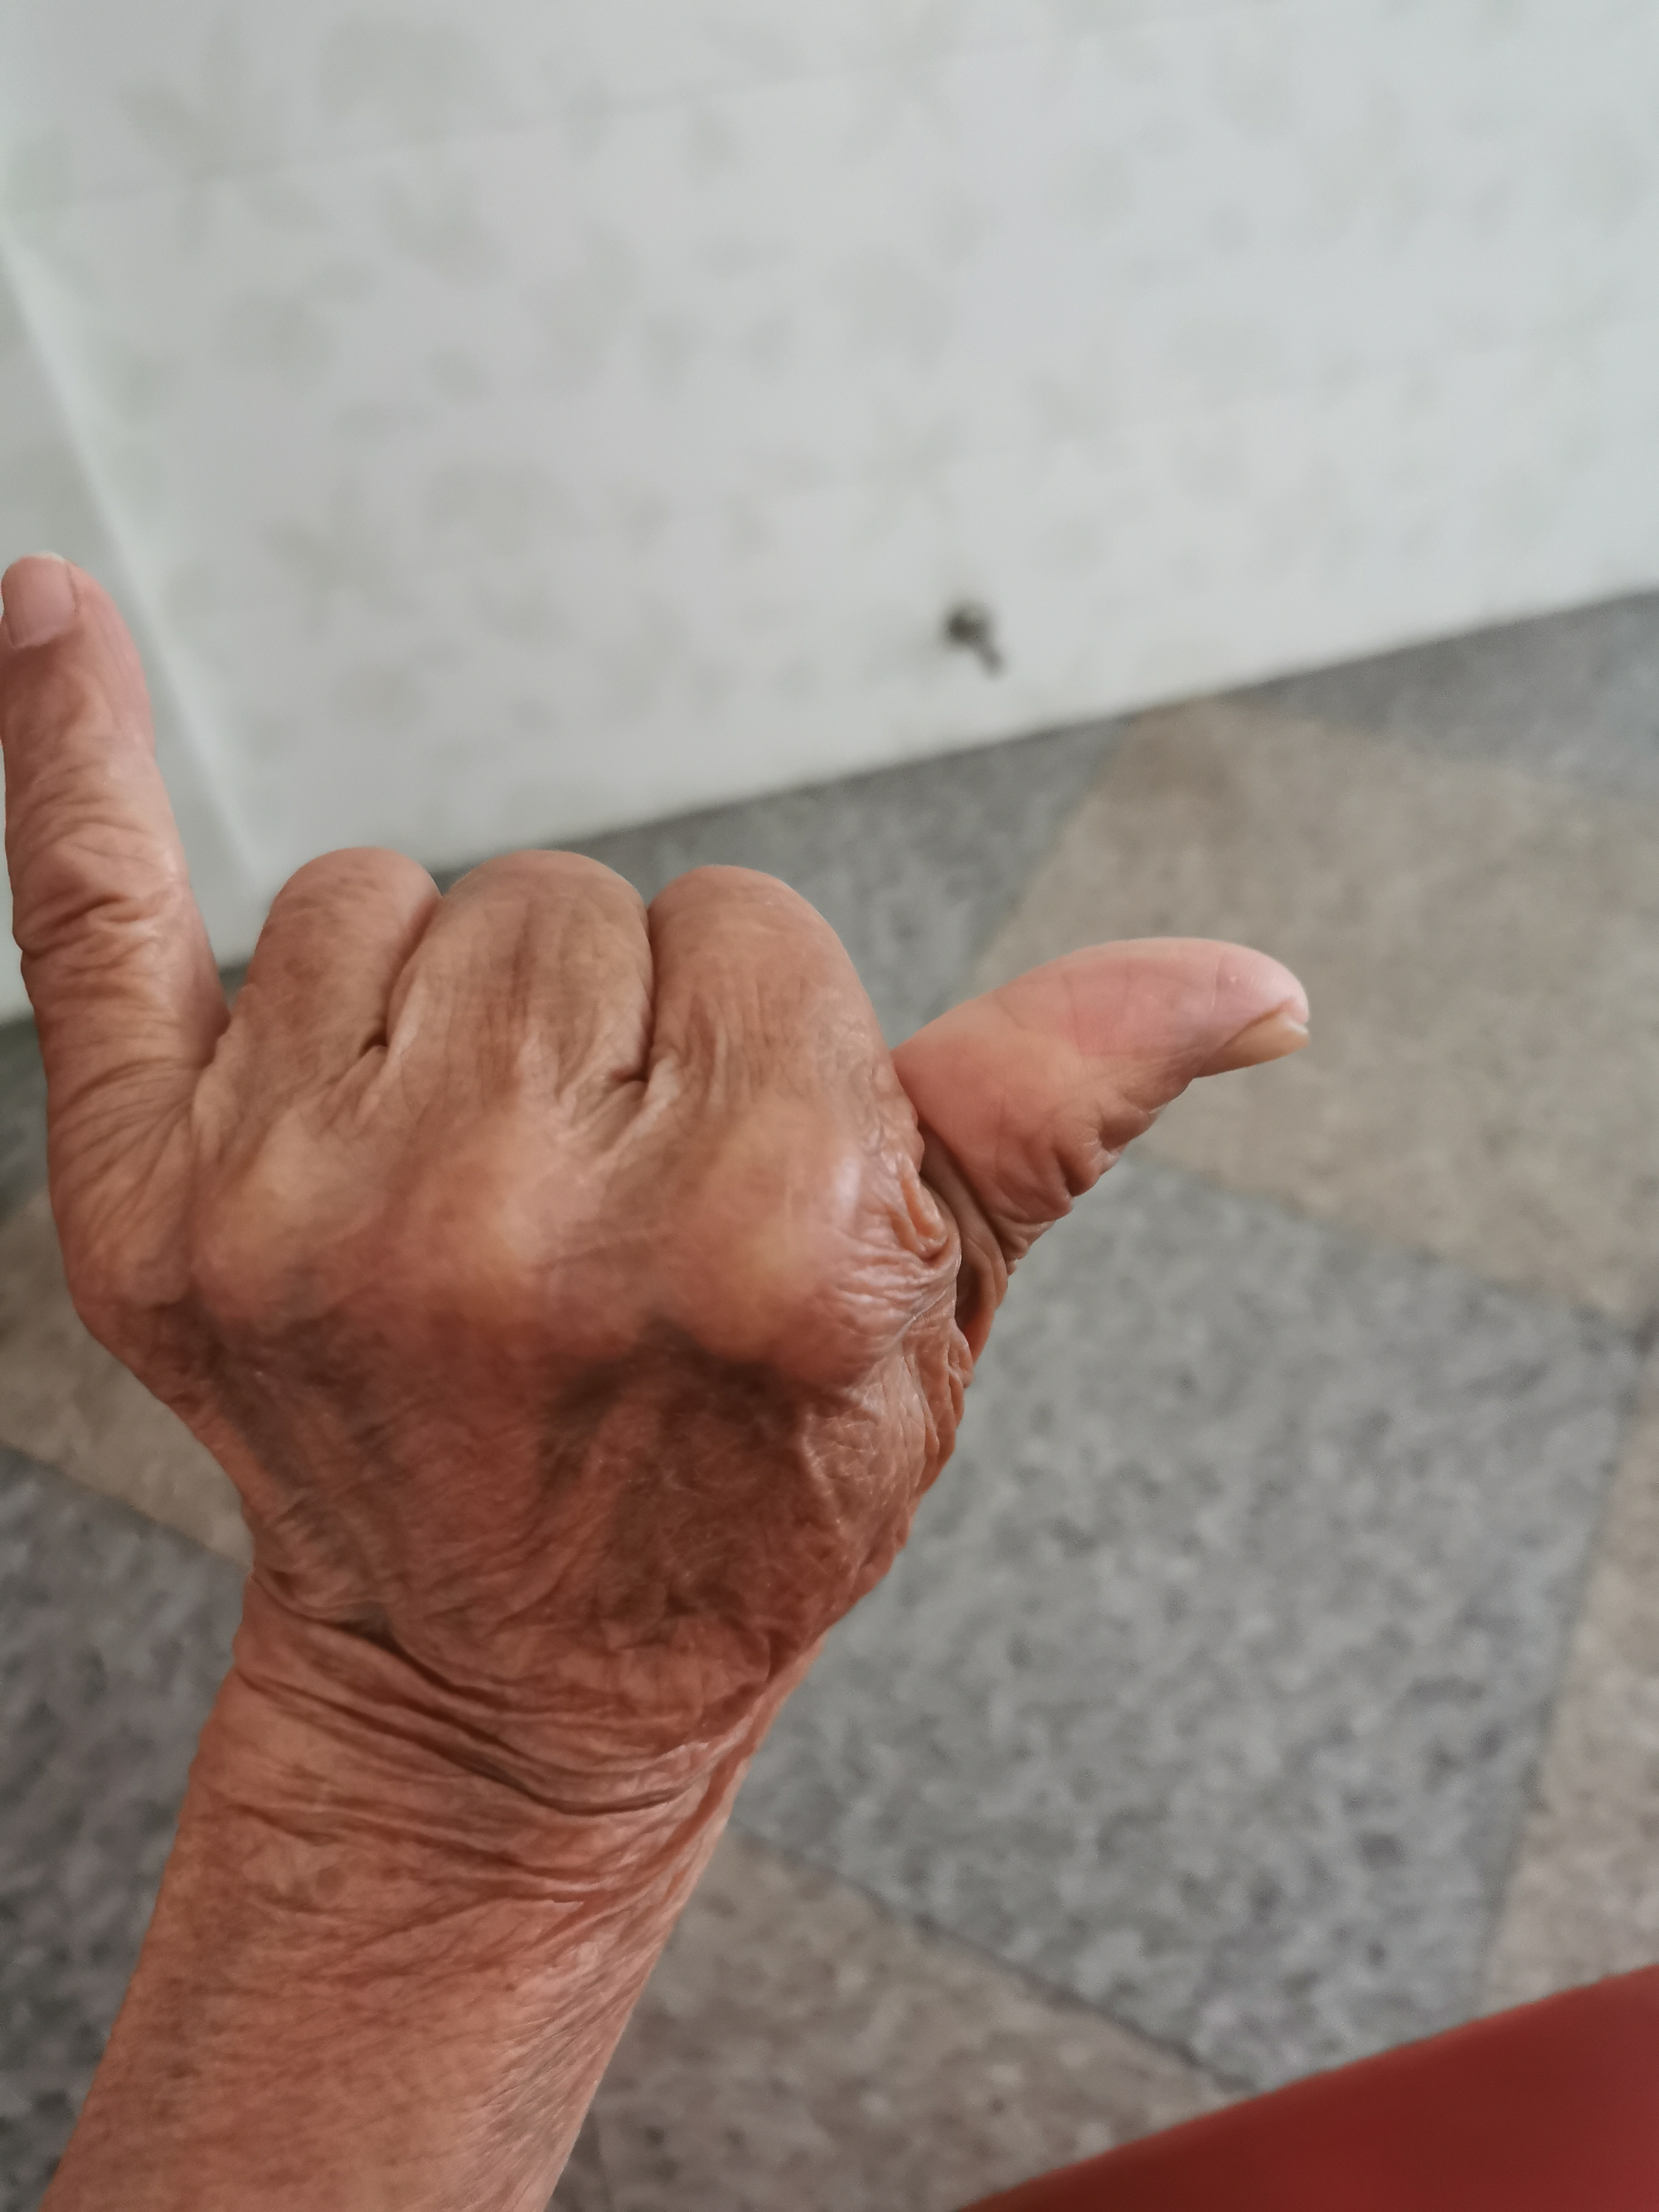clockwise: (17, 554, 1330, 1761)
